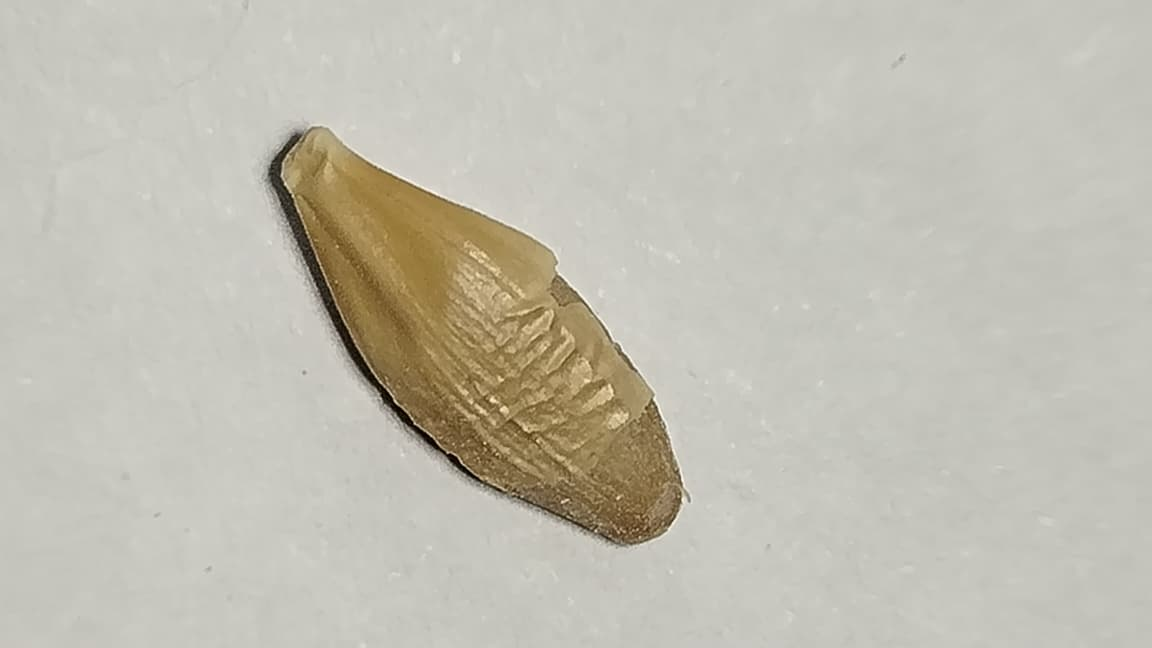healthy-70-60: (281, 127, 683, 543)
